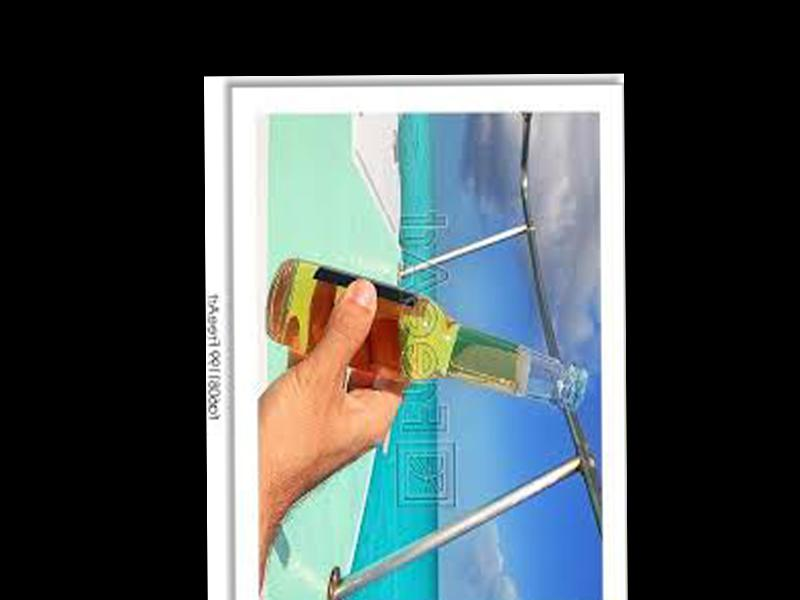Beer: (270, 254, 585, 420)
